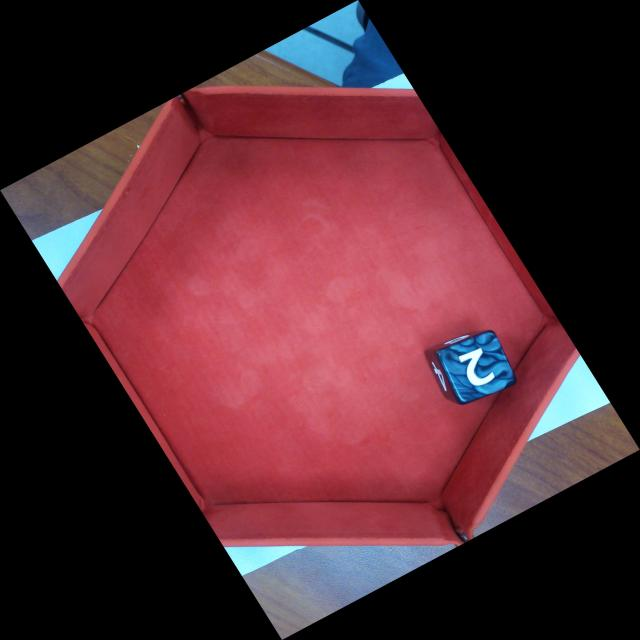dice: (434, 328, 519, 407)
